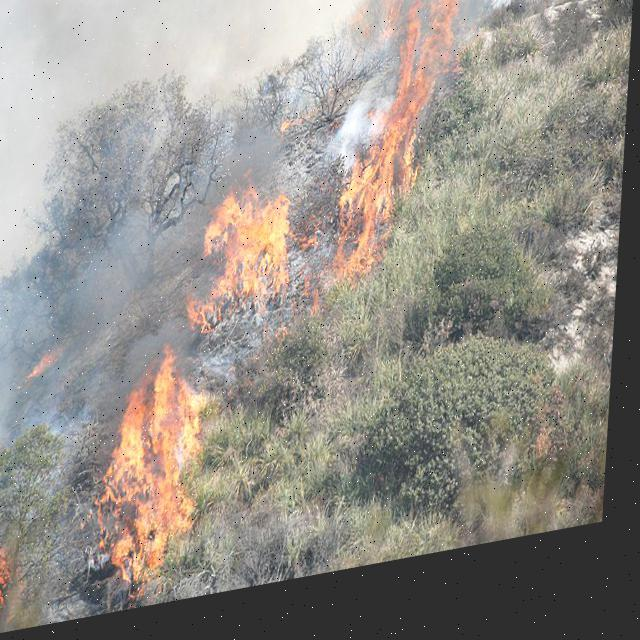Fire: (344, 0, 467, 289), (106, 348, 230, 590), (200, 180, 306, 350), (0, 536, 29, 616)
